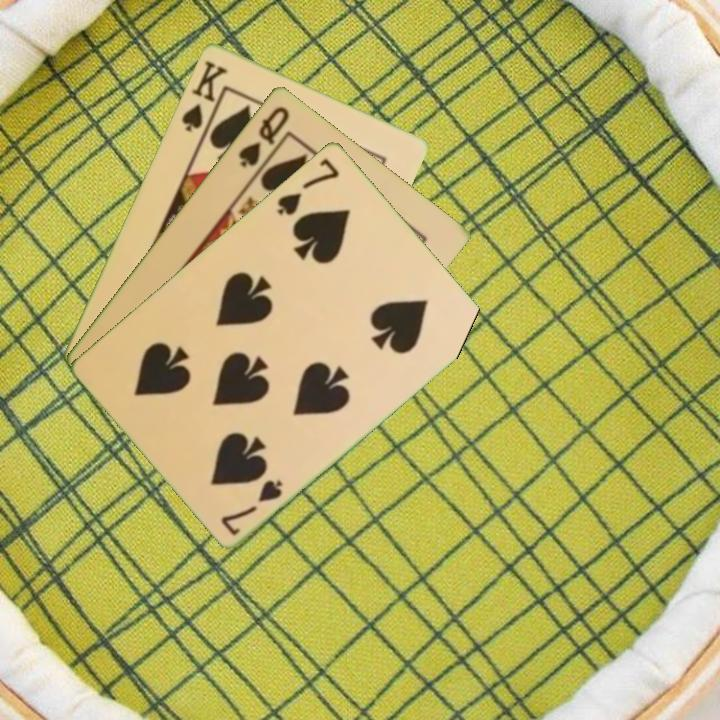7s: (273, 154, 343, 218), (217, 475, 286, 538)
Ks: (177, 56, 231, 139)
Qs: (234, 101, 293, 171)
